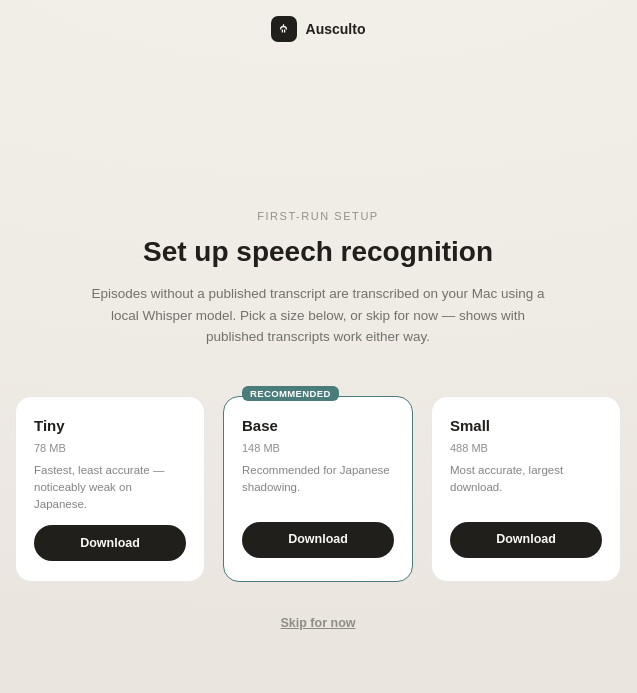
Test: AsrSetup › shows a distinct error message per failure reason and allows retry
Click the button "Download" below "78 MB" at (110, 543), box [34, 525, 186, 561]
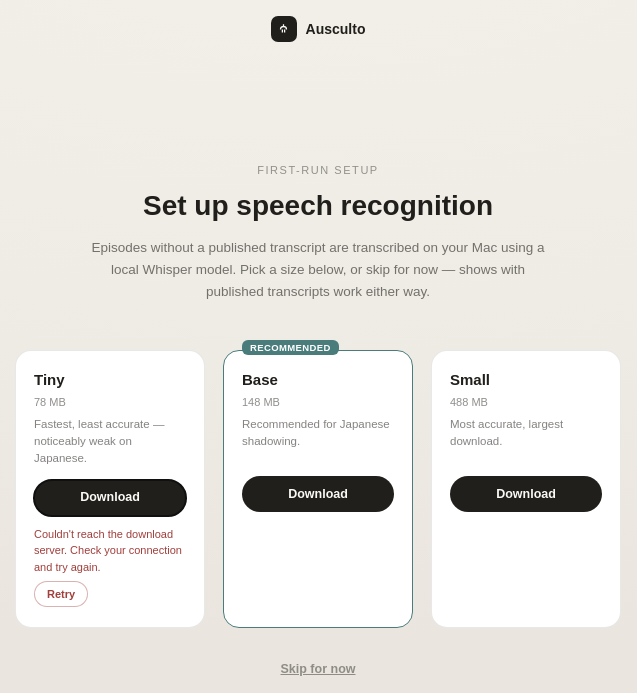
Result: the element with test id "asr-setup-error" shows "Couldn't reach the download server" at [34, 528, 182, 572]
Result: the button "Retry" is shown at [34, 581, 88, 607]
